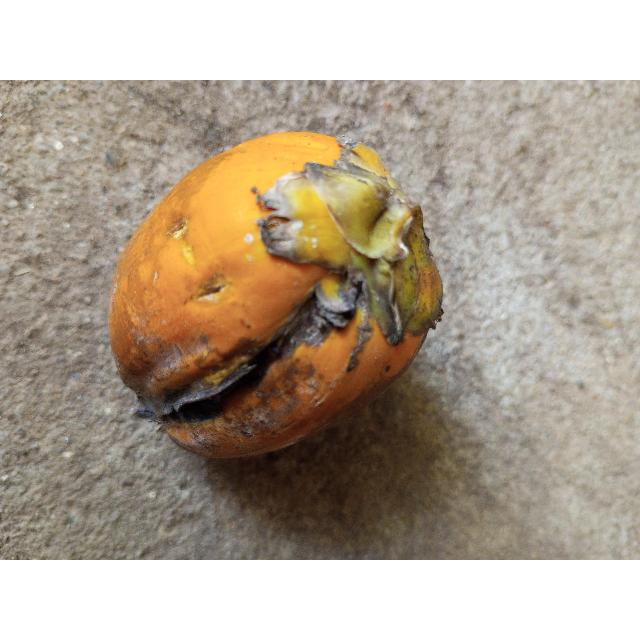damaged: (109, 132, 443, 457)
